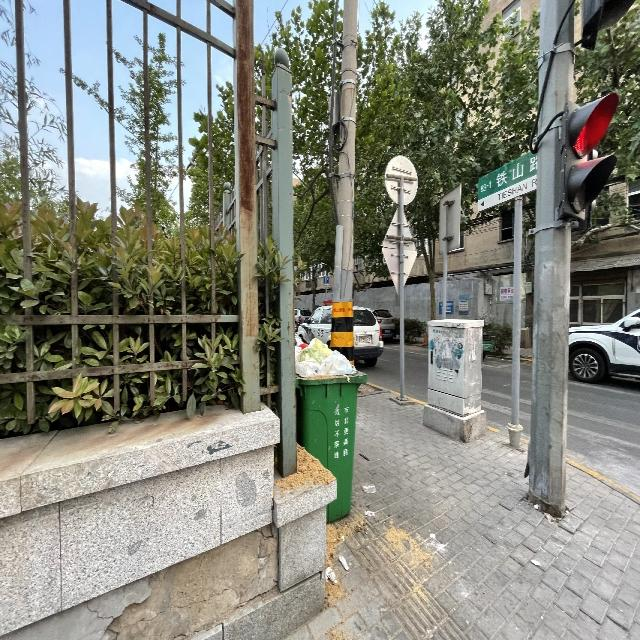overflow: (295, 336, 366, 520)
